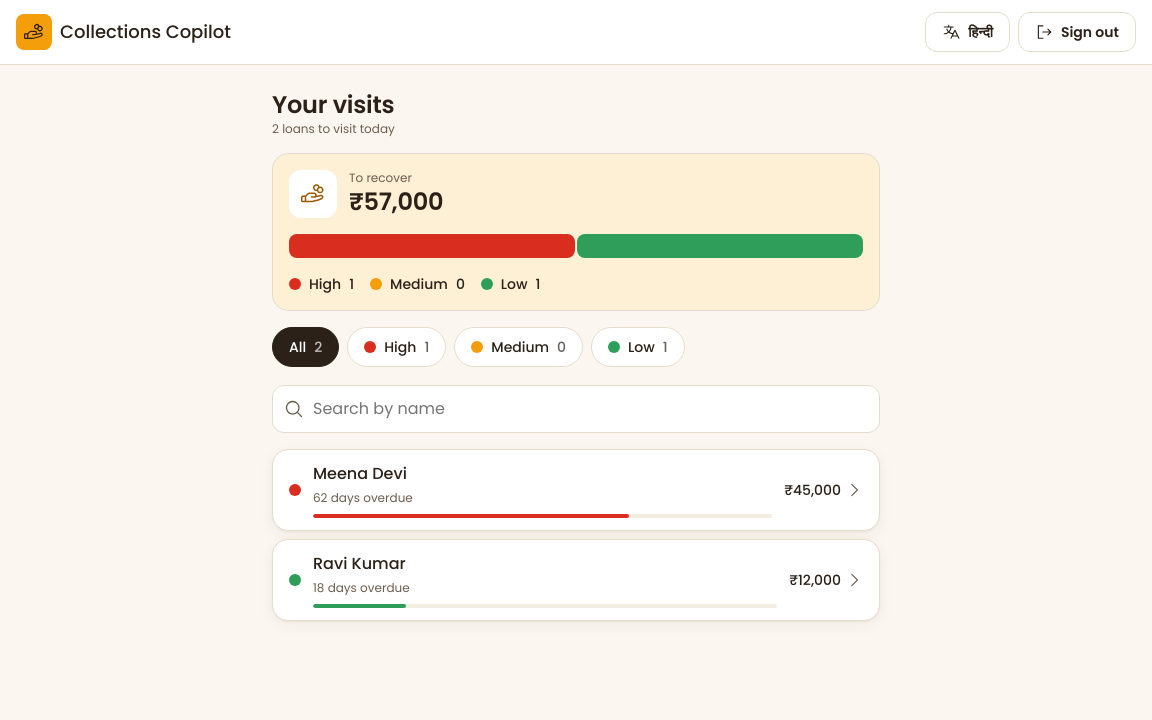
Test: officer list filters › filters by priority chip and clears again
Check: the text "Ravi Kumar" is shown, box [313,552,406,575]
Click the button "High 1" at (397, 347), box [347,327,446,367]
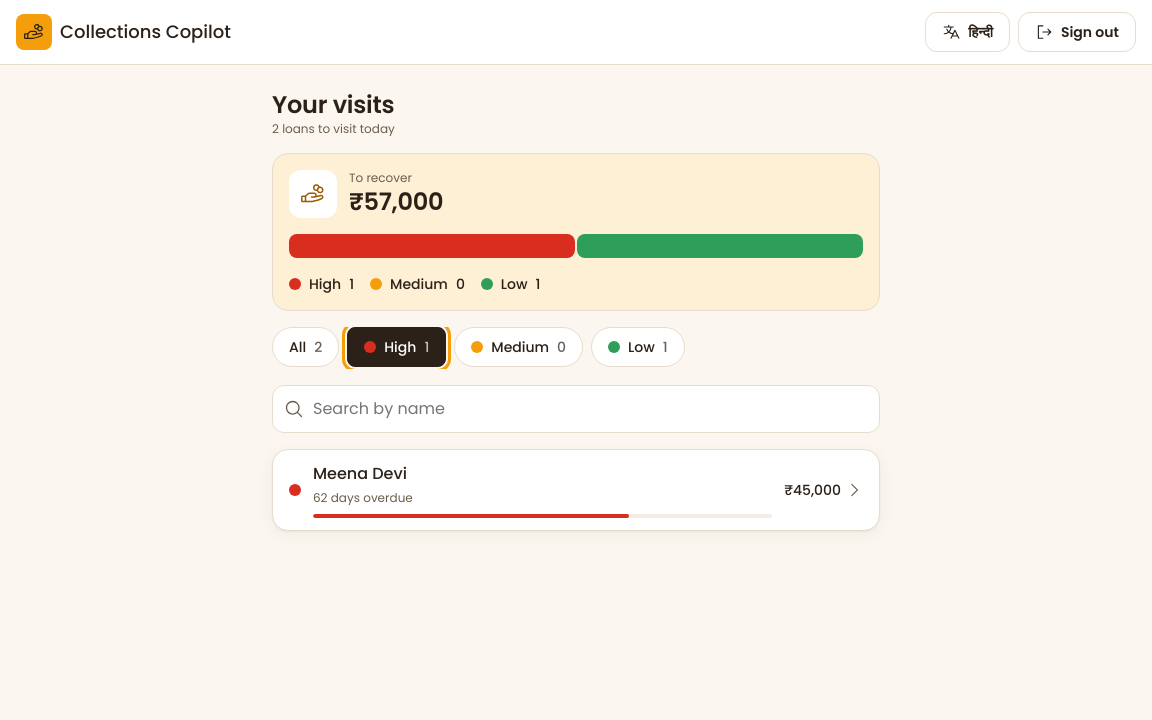
Check: the text "Meena Devi" is shown, box [313,462,407,485]
Check: the link "Ravi Kumar" is gone
Click the button "All 2" at (306, 347), box [272,327,339,367]
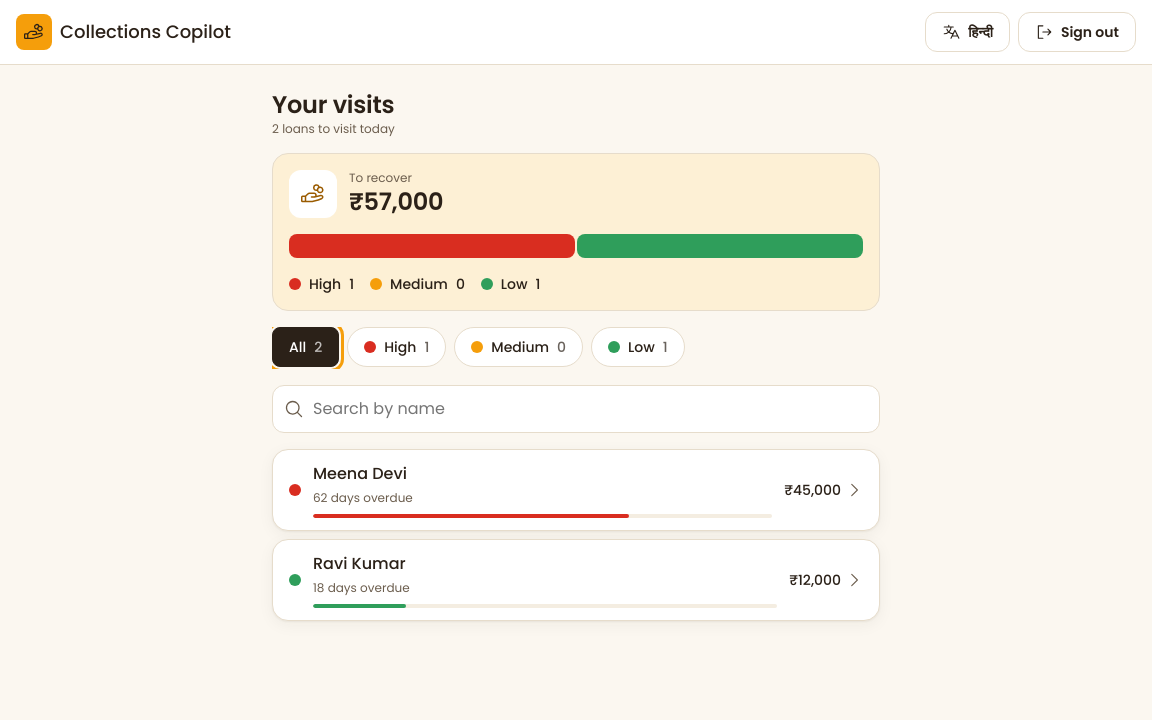
Check: the text "Ravi Kumar" is shown, box [313,552,406,575]
